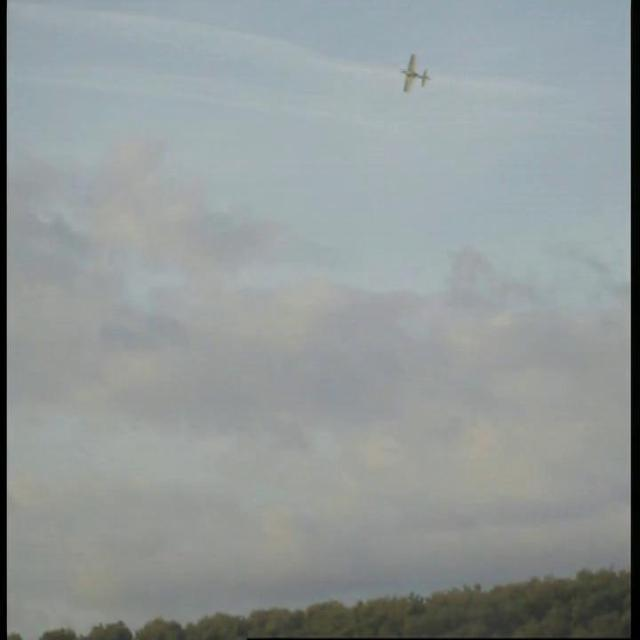drone: (394, 46, 432, 96)
